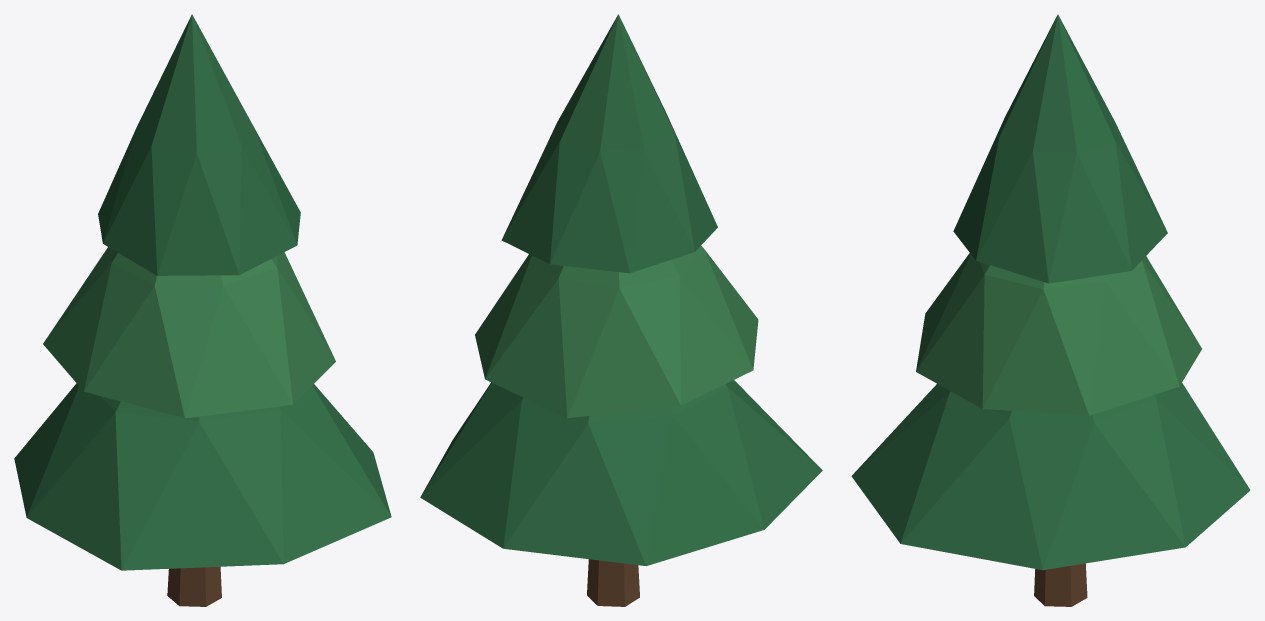
File: tree_medium.glb
The picture shows the model from 3 angles, left to right: view 1: azimuth 30°, elevation 25°; view 2: azimuth 150°, elevation 25°; view 3: azimuth 270°, elevation 25°; orthographic projection.
Visible parts, largest first — view 1: Tree_Medium; view 2: Tree_Medium; view 3: Tree_Medium.
Boxes of the visible parts, left/top/right/bottom form: Tree_Medium: left=14, top=14, right=391, bottom=606; Tree_Medium: left=420, top=14, right=822, bottom=606; Tree_Medium: left=851, top=14, right=1250, bottom=606.
Bounding box in the file's own units: 2.98 × 5.05 × 3.15.
